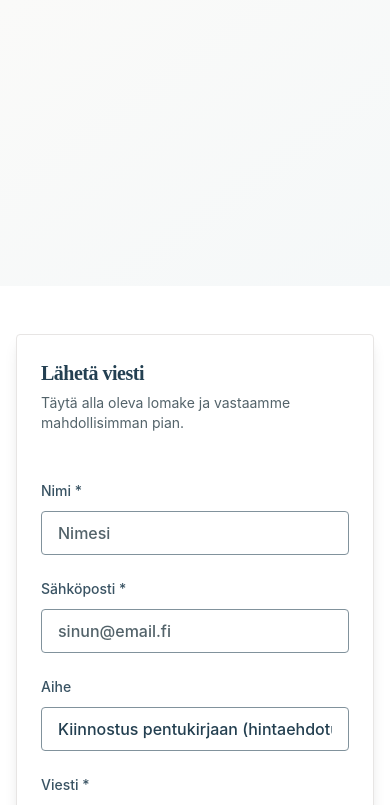
Scenario: memory-book interest via the existing contact form › keeps the message available after a delivery failure
In the field labelled "Nimi *": (195, 533) [41, 511, 349, 555], type "Esimerkkikäyttäjä"
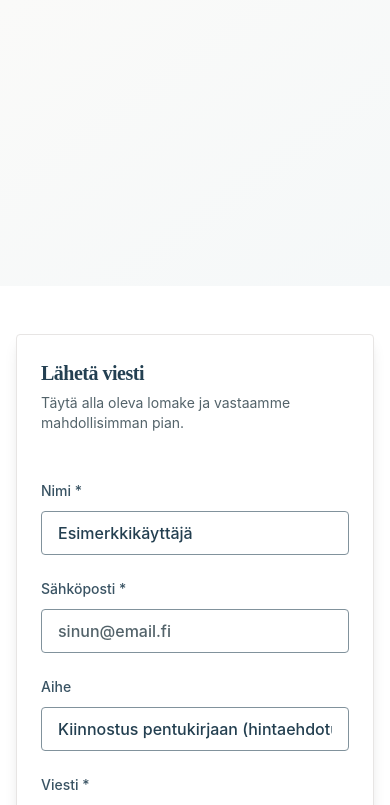
In the field labelled "Sähköposti *": (195, 631) [41, 609, 349, 653], type "example@example.invalid"
(page scrolled)
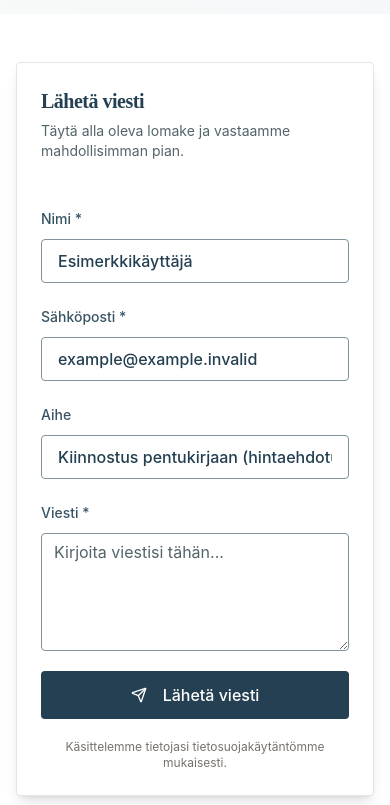
In the text box labelled "Viesti *": (195, 592) [41, 533, 349, 651], type "Haluaisin pentukirjaan oman kannen."
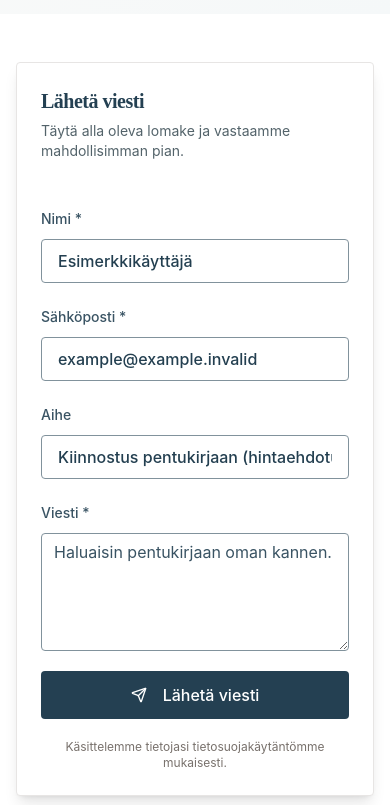
Submit the form "Lähetä viesti", box [41, 205, 349, 771]
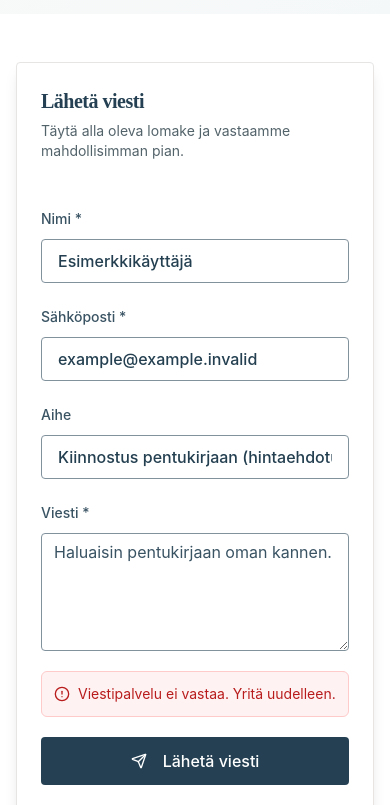
Check: the message shows "Viestipalvelu ei vastaa", box [78, 685, 336, 702]
